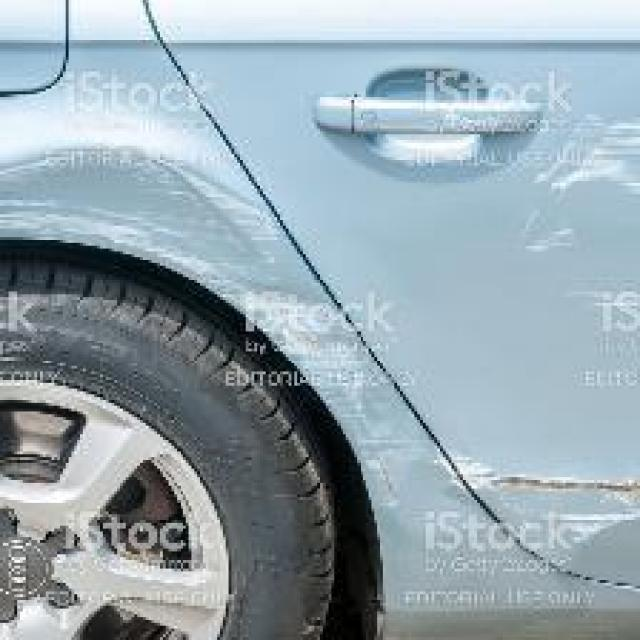damaged: (2, 137, 418, 512), (440, 446, 637, 580)
